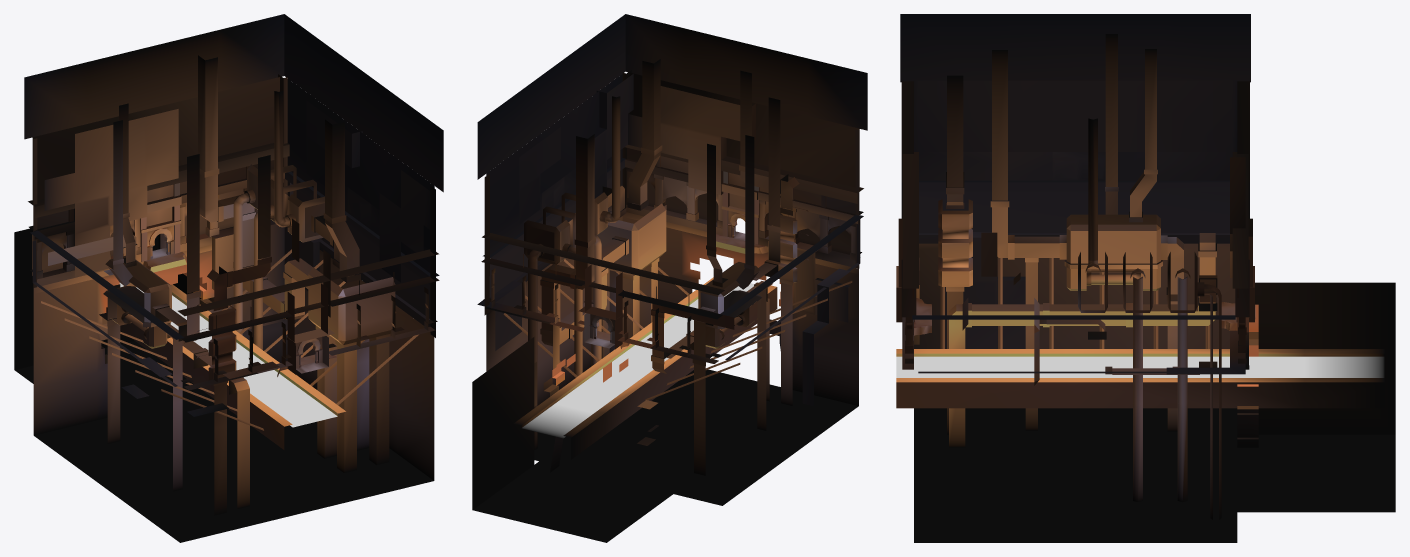
Rendered from 06Lava.gltf.
3 renders of one model, left to right at view 1: azimuth 30°, elevation 25°; view 2: azimuth 150°, elevation 25°; view 3: azimuth 270°, elevation 25°, orthographic. The views are drawn at different scales.
Parts seen in each view (by area): view 1: stg031_o28_Mesh_0033, stg031_o28_Mesh_0051, stg031_o28_Mesh_0004, stg031_o28_Mesh_0029, stg031_o28_Mesh_0021, stg031_o28_Mesh_0005, stg031_o28_Mesh_0013, stg031_o28_Mesh_0027, stg031_o28_Mesh_0017, stg031_o28_Mesh_0046, stg031_o28_Mesh_0024, stg031_steelflow_28_Mesh_0000 (+13 smaller); view 2: stg031_o28_Mesh_0033, stg031_o28_Mesh_0051, stg031_o28_Mesh_0004, stg031_o28_Mesh_0029, stg031_o28_Mesh_0021, stg031_o28_Mesh_0017, stg031_o28_Mesh_0005, stg031_o28_Mesh_0013, stg031_o28_Mesh_0027, stg031_steelflow_28_Mesh_0000, stg031_o28_Mesh_0046, stg031_o28_Mesh_0024 (+13 smaller); view 3: stg031_o28_Mesh_0033, stg031_o28_Mesh_0051, stg031_o28_Mesh_0004, stg031_o28_Mesh_0017, stg031_o28_Mesh_0021, stg031_o28_Mesh_0005, stg031_o28_Mesh_0065, stg031_steelflow_28_Mesh_0000, stg031_o28_Mesh_0027, stg031_o28_Mesh_0013, stg031_o28_Mesh_0029, stg031_o28_Mesh_0046 (+8 smaller).
Part boxes in pixels (x1,y1,x2,y2): stg031_o28_Mesh_0033: (14,228,434,542); stg031_o28_Mesh_0051: (24,14,443,433); stg031_o28_Mesh_0004: (48,55,395,515); stg031_o28_Mesh_0029: (44,101,430,416); stg031_o28_Mesh_0021: (32,77,432,246); stg031_o28_Mesh_0005: (41,91,418,430); stg031_o28_Mesh_0013: (75,116,400,394); stg031_o28_Mesh_0027: (30,74,439,345); stg031_o28_Mesh_0017: (106,166,345,449); stg031_o28_Mesh_0046: (28,143,438,316); stg031_o28_Mesh_0024: (77,120,399,322); stg031_steelflow_28_Mesh_0000: (119,283,337,427); stg031_o28_Mesh_0033: (472,212,858,542); stg031_o28_Mesh_0051: (477,14,867,371); stg031_o28_Mesh_0004: (527,59,799,475); stg031_o28_Mesh_0029: (477,74,850,406); stg031_o28_Mesh_0021: (488,72,859,230); stg031_o28_Mesh_0017: (514,194,797,459); stg031_o28_Mesh_0005: (503,96,852,449); stg031_o28_Mesh_0013: (519,122,815,366); stg031_o28_Mesh_0027: (483,70,863,322); stg031_steelflow_28_Mesh_0000: (521,283,754,438); stg031_o28_Mesh_0046: (482,145,863,294); stg031_o28_Mesh_0024: (520,124,812,311); stg031_o28_Mesh_0033: (914,243,1395,542); stg031_o28_Mesh_0051: (900,14,1250,348); stg031_o28_Mesh_0004: (938,34,1216,447); stg031_o28_Mesh_0017: (896,216,1384,408); stg031_o28_Mesh_0021: (918,80,1231,151); stg031_o28_Mesh_0005: (940,118,1221,519); stg031_o28_Mesh_0065: (919,191,1229,233); stg031_steelflow_28_Mesh_0000: (896,356,1384,377); stg031_o28_Mesh_0027: (896,80,1254,319); stg031_o28_Mesh_0013: (938,169,1217,374); stg031_o28_Mesh_0029: (914,157,1245,374); stg031_o28_Mesh_0046: (902,152,1248,288).
Bounding box in the file's own units: 94.87 × 120 × 139.
